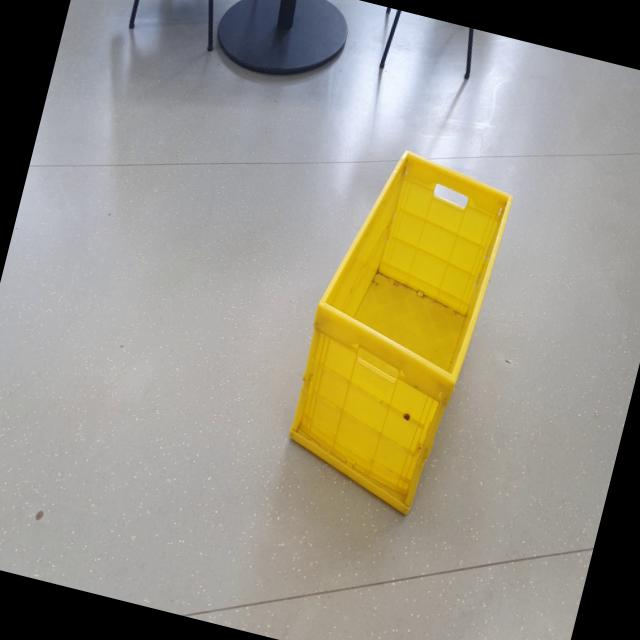box: (268, 131, 524, 530)
